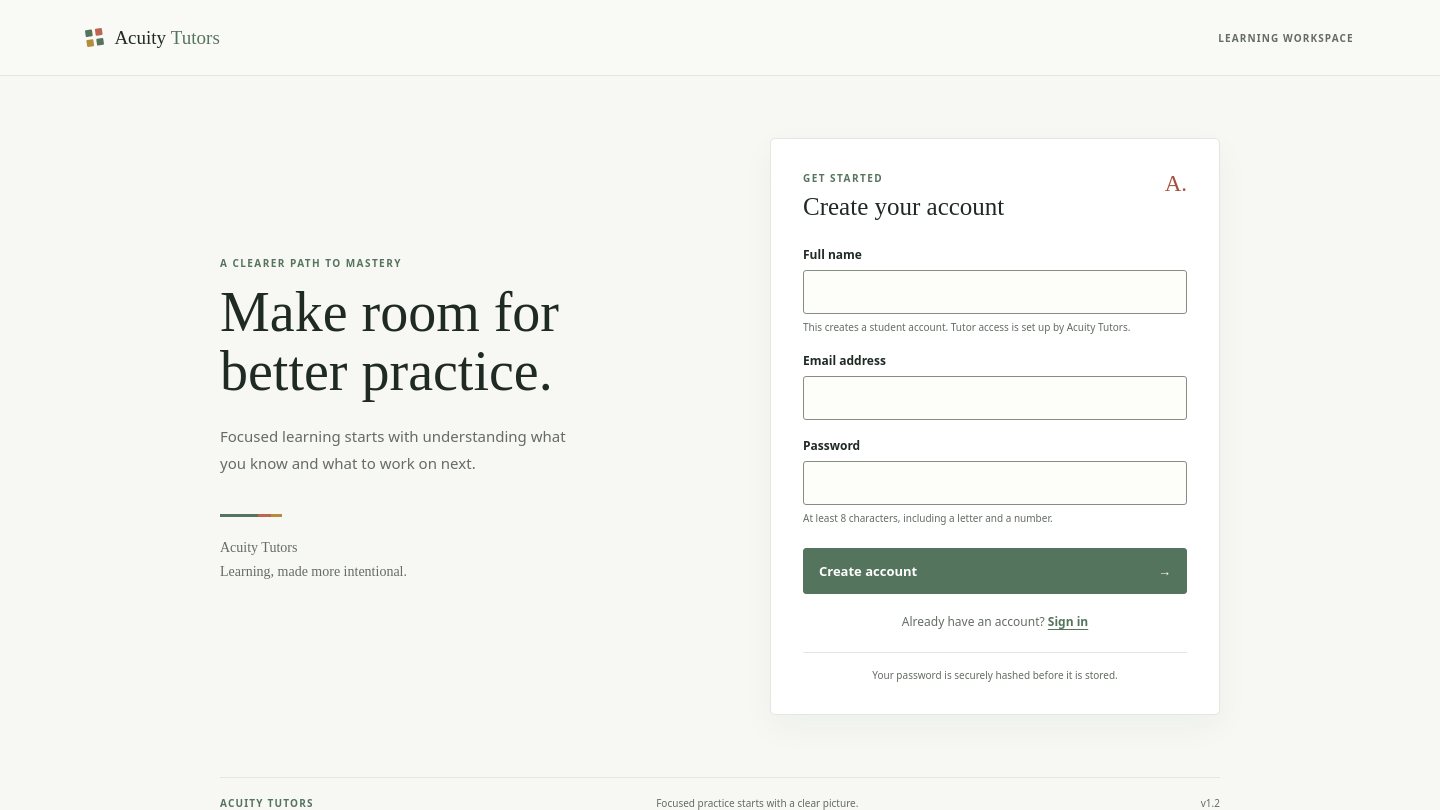
it: SEC3: public registration is student-only › has no Tutor option and never sends a role
Expected: the heading "Create your account" is shown, [803,193,1004,221]
Expected: the text "This creates a student account" is shown, [803,320,1130,334]
Type "New Student" into the field labelled "Full name" at (995, 292), box [803,270,1187,314]
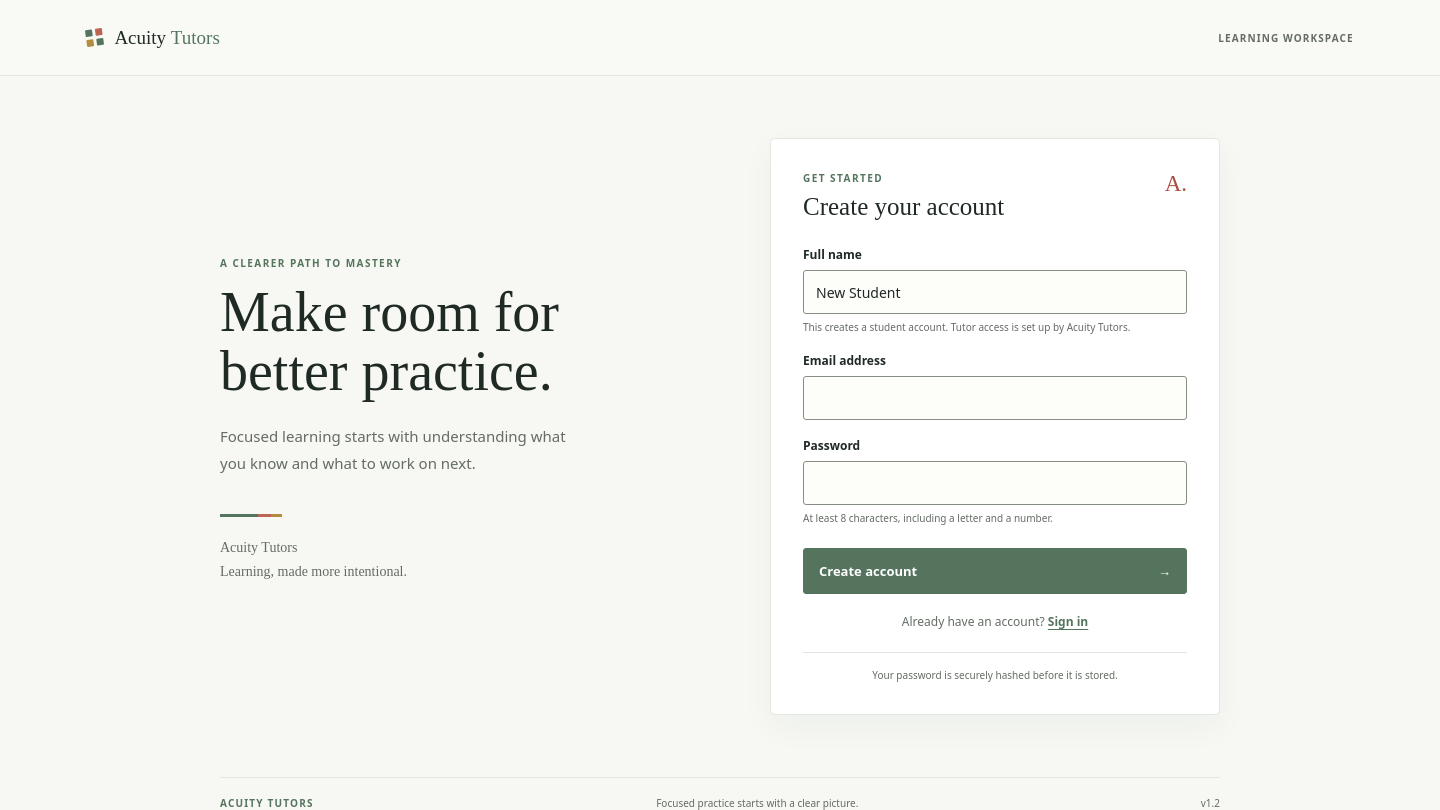
Type "new@example.com" into the field labelled "Email address" at (995, 398), box [803,376,1187,420]
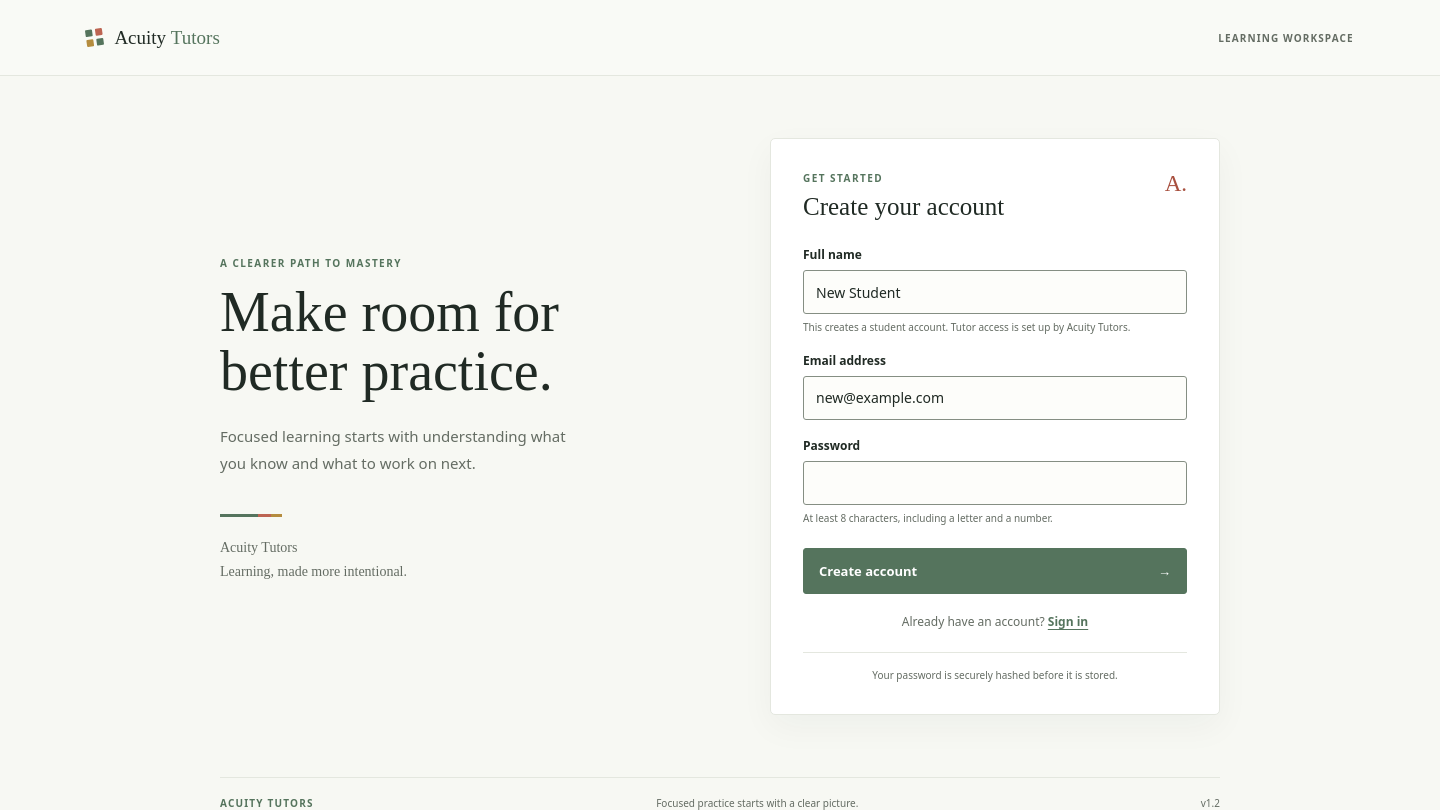
Type "Student2026" into the password field labelled "Password" at (995, 482), box [803,460,1187,504]
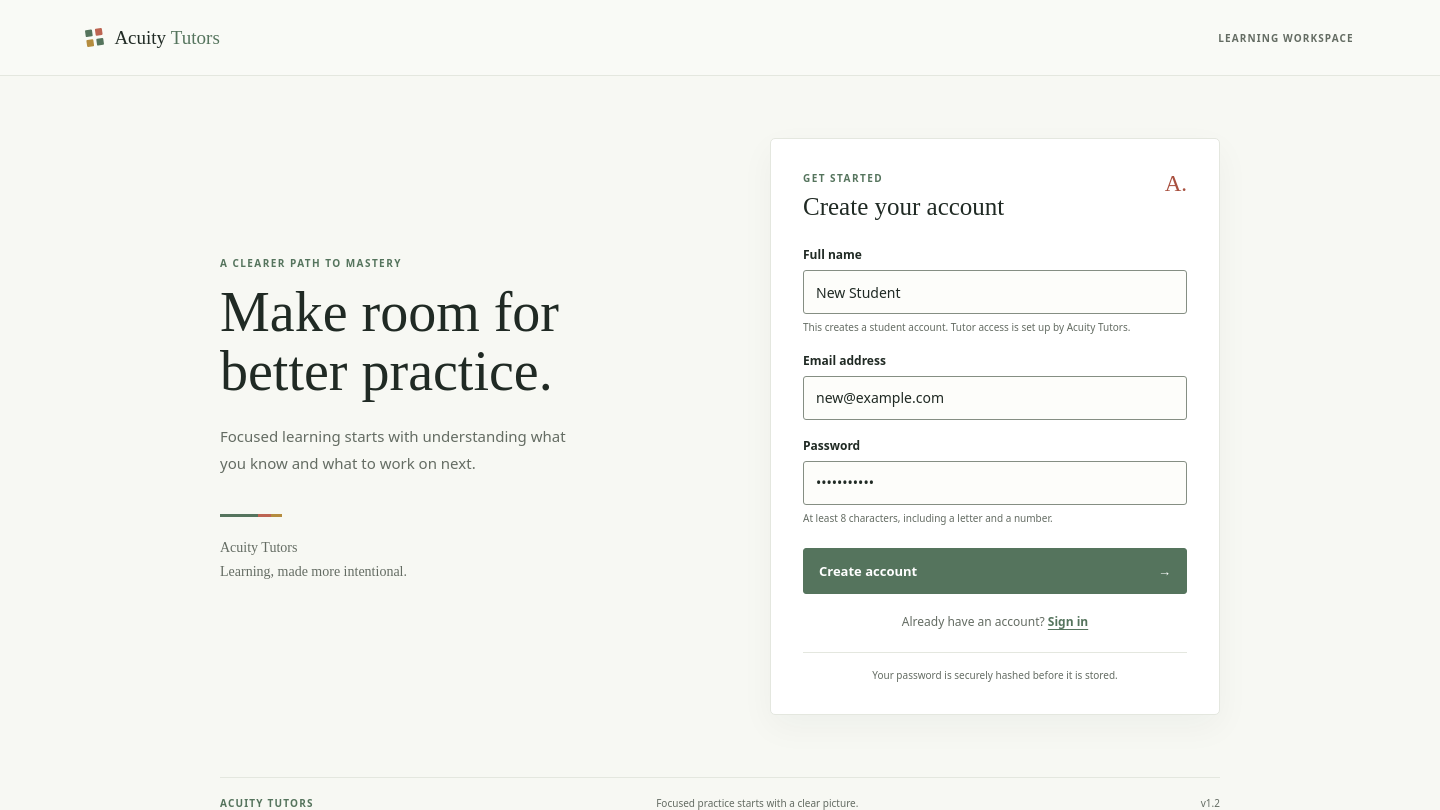
Click the button "Create account →" at (868, 571), box [803,548,1187,594]
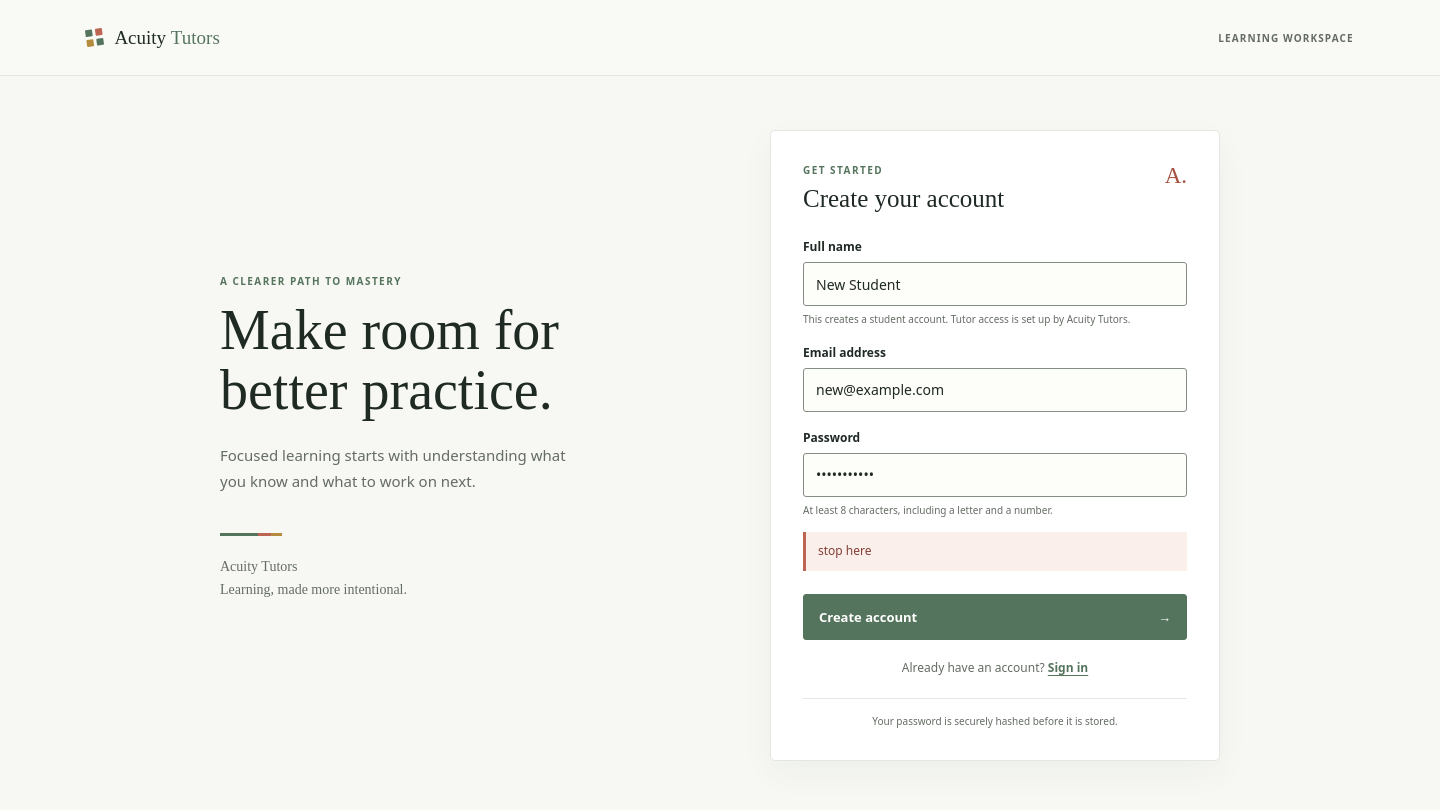
Expected: the text "stop here" is shown, [803,532,1187,571]
